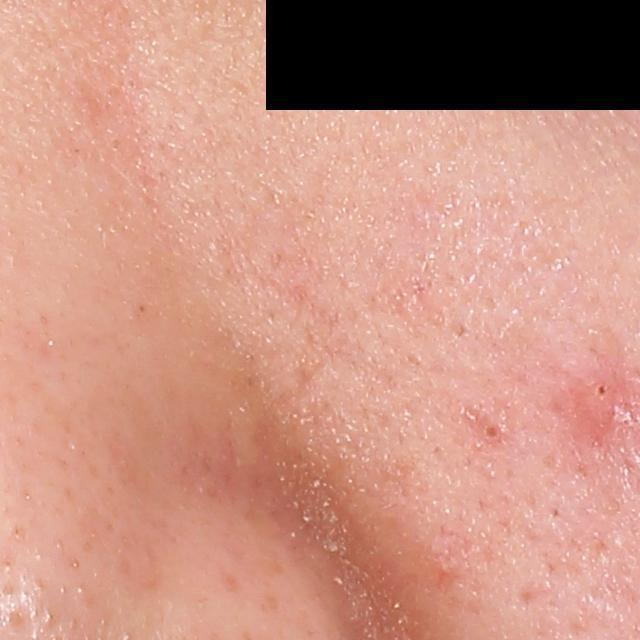comedo: (588, 374, 614, 404), (475, 420, 504, 445)
